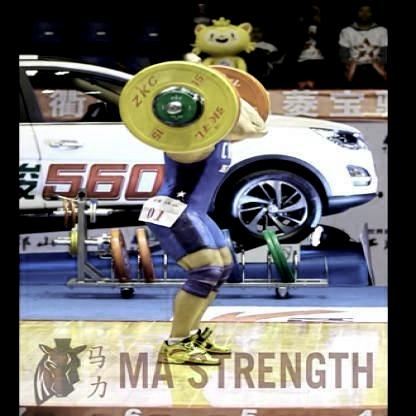Barbell: (160, 103, 183, 117)
